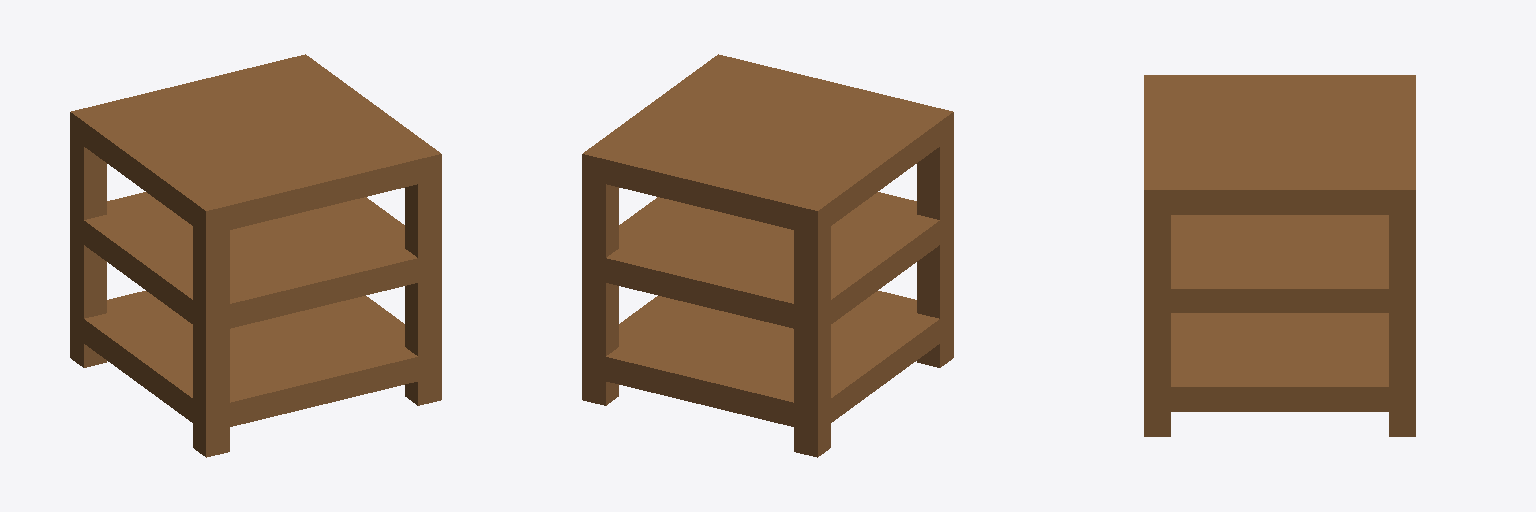
Rendered from rack.obj.
3 renders of one model, left to right at view 1: azimuth 30°, elevation 25°; view 2: azimuth 150°, elevation 25°; view 3: azimuth 270°, elevation 25°, orthographic.
Visible parts, largest first — view 1: rack_mesh_Cube; view 2: rack_mesh_Cube; view 3: rack_mesh_Cube.
Boxes of the visible parts, x1=… form: rack_mesh_Cube: x1=70, y1=54, x2=441, y2=457; rack_mesh_Cube: x1=582, y1=54, x2=953, y2=457; rack_mesh_Cube: x1=1144, y1=75, x2=1415, y2=436.
Size of the model in its own units: 0.75 by 0.75 by 0.75.